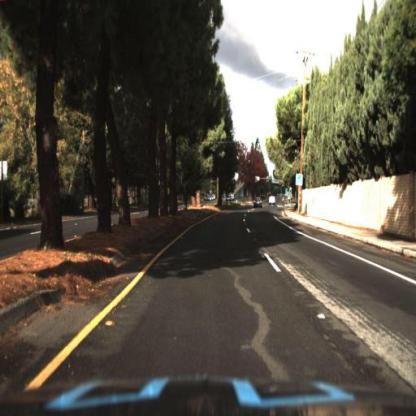car: (267, 190, 279, 209)
